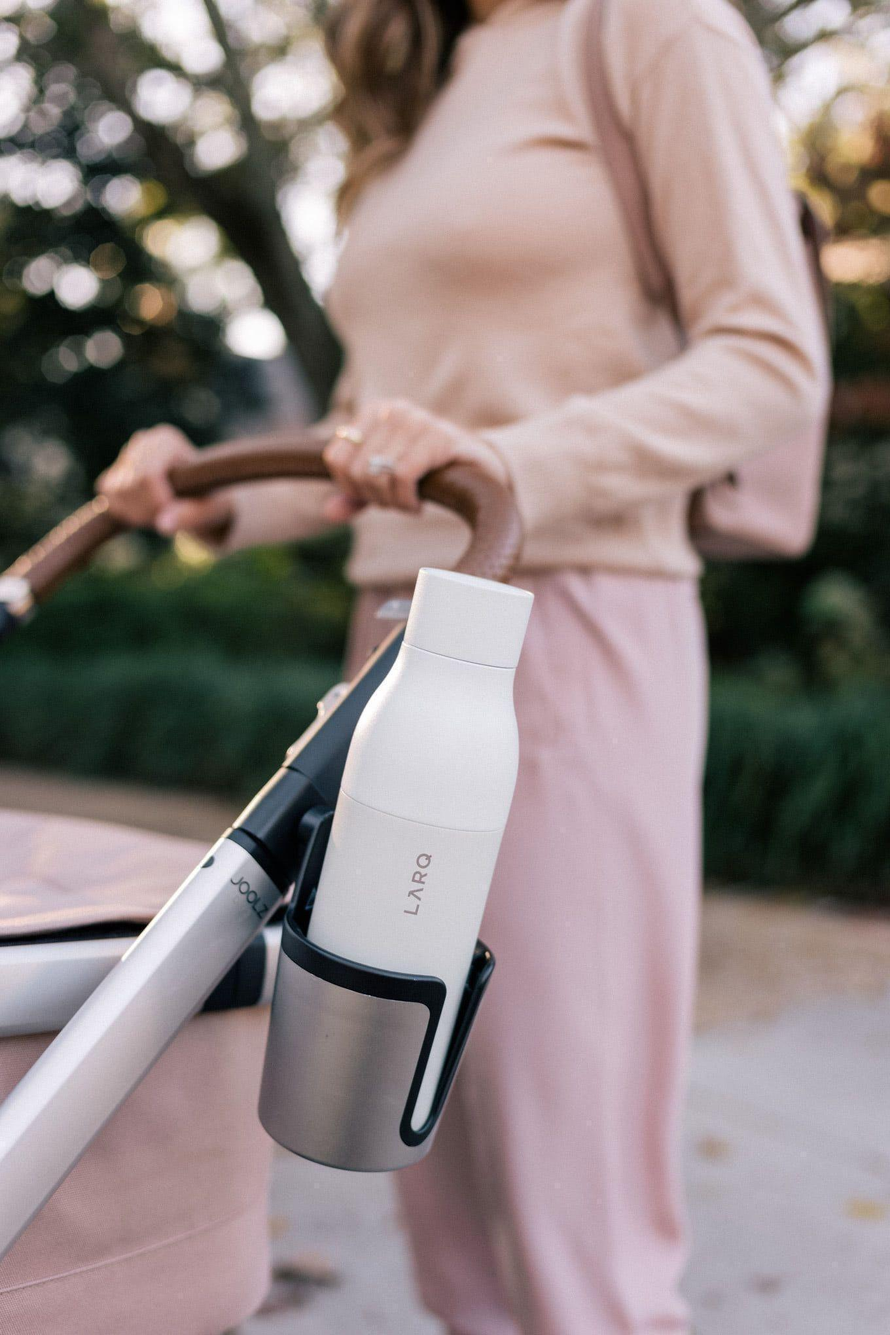gym bottle: (253, 563, 531, 1174)
